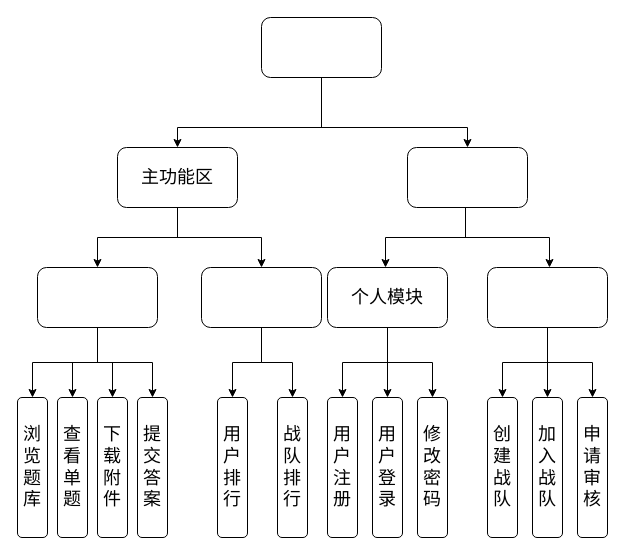
Some shapes in this 625 by 555 pixel diagram are drawn without their labels. Here are the shapes that lost their labels. From the top down, the centre of each, then its label:
(321,47): CTF平台
(467,177): 用户功能区
(97,297): 题库模块
(261,297): 排行模块
(547,297): 战队模块
